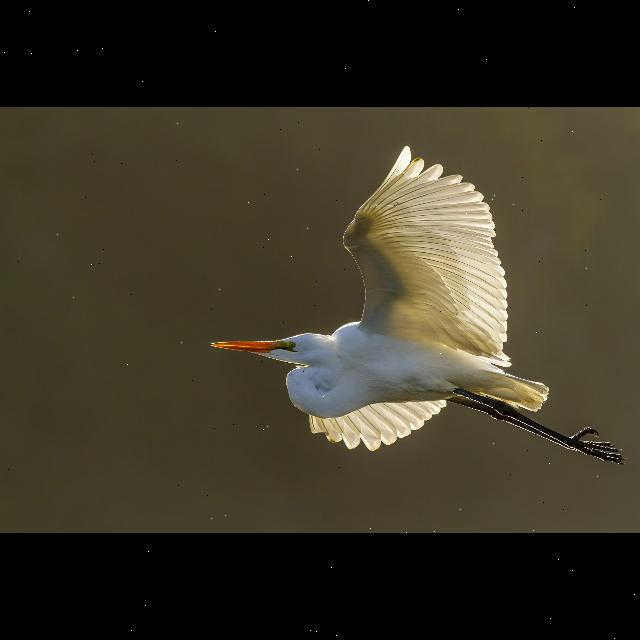egret: (200, 142, 632, 482)
